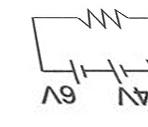resistor: (73, 4, 129, 33)
